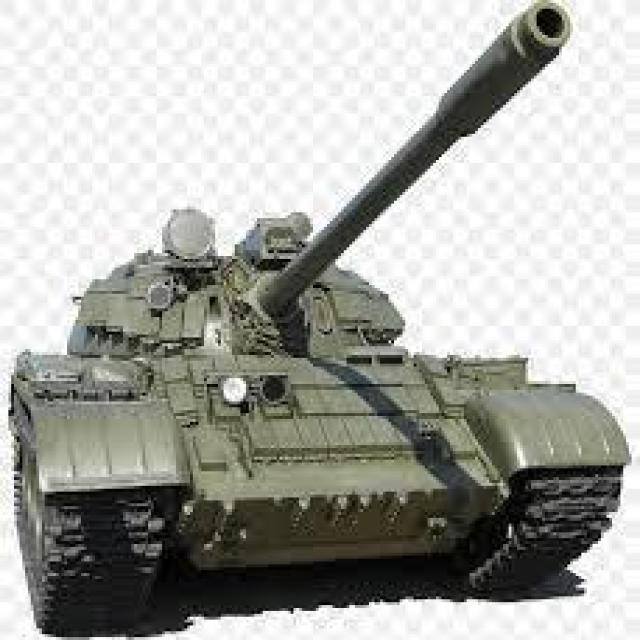Tanks: (18, 214, 625, 618)
